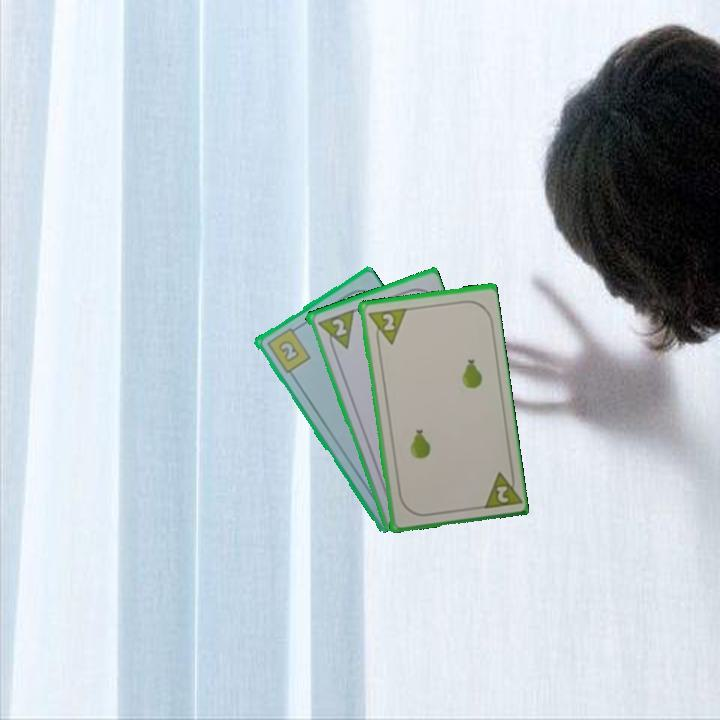2b: (263, 323, 313, 376)
2p: (477, 465, 522, 511), (364, 304, 408, 349), (328, 315, 349, 339)
